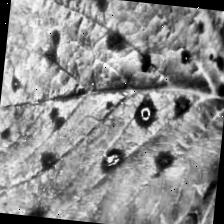Leaf Spot: (0, 0, 224, 224), (157, 5, 224, 94)
